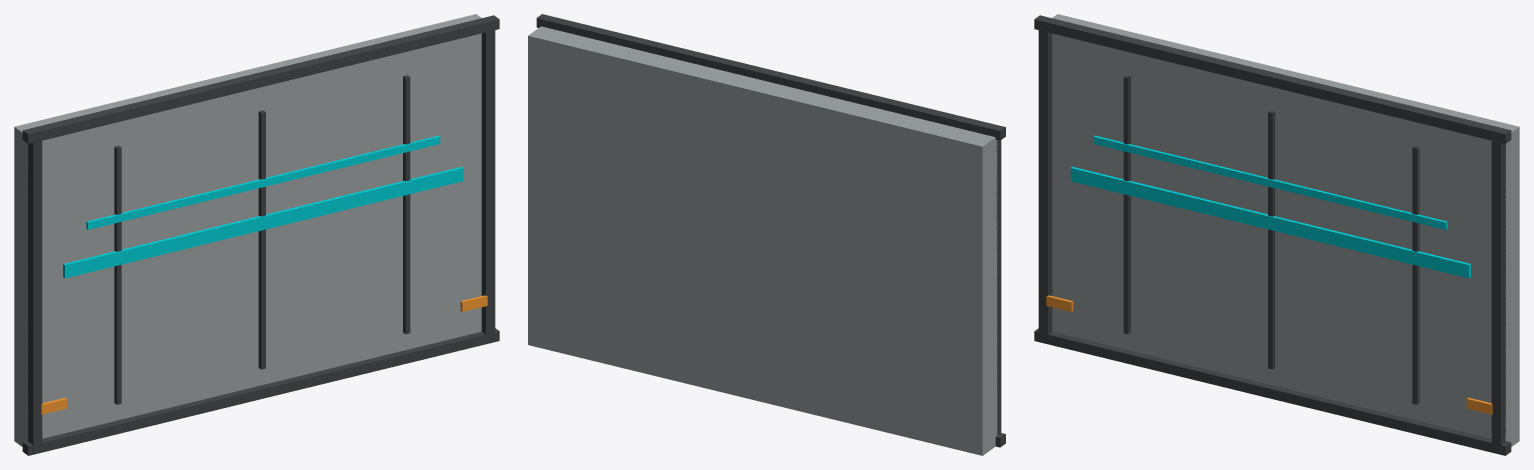
File: map_a2_wallrun_panel_01.glb
3 renders of one model, left to right at view 1: azimuth 30°, elevation 25°; view 2: azimuth 150°, elevation 25°; view 3: azimuth 330°, elevation 25°, orthographic.
Parts seen in each view (by area): view 1: map_a2_wallrun_panel_01_lod0_wall_slab, map_a2_wallrun_panel_01_lod0_top_cap, map_a2_wallrun_panel_01_lod0_bottom_cap, map_a2_wallrun_panel_01_lod0_wallrun_lane, map_a2_wallrun_panel_01_lod0_side_cap_-1.96, map_a2_wallrun_panel_01_lod0_side_cap_+1.96, map_a2_wallrun_panel_01_lod0_wallrun_lane_upper, map_a2_wallrun_panel_01_lod0_vertical_channel_+1.25, map_a2_wallrun_panel_01_lod0_vertical_channel_-1.25, map_a2_wallrun_panel_01_lod0_vertical_channel_+0.00, map_a2_wallrun_panel_01_lod1_blockout; view 2: map_a2_wallrun_panel_01_lod0_wall_slab, map_a2_wallrun_panel_01_lod0_top_cap, map_a2_wallrun_panel_01_lod0_side_cap_-1.96; view 3: map_a2_wallrun_panel_01_lod0_wall_slab, map_a2_wallrun_panel_01_lod0_top_cap, map_a2_wallrun_panel_01_lod0_bottom_cap, map_a2_wallrun_panel_01_lod0_wallrun_lane, map_a2_wallrun_panel_01_lod0_side_cap_+1.96, map_a2_wallrun_panel_01_lod0_side_cap_-1.96, map_a2_wallrun_panel_01_lod1_blockout, map_a2_wallrun_panel_01_lod0_wallrun_lane_upper, map_a2_wallrun_panel_01_lod0_vertical_channel_-1.25, map_a2_wallrun_panel_01_lod0_vertical_channel_+1.25, map_a2_wallrun_panel_01_lod0_vertical_channel_+0.00.
Boxes of the visible parts, box(x1,y1,x2,y2) form: map_a2_wallrun_panel_01_lod0_wall_slab: box(14, 14, 481, 446); map_a2_wallrun_panel_01_lod0_top_cap: box(22, 15, 499, 143); map_a2_wallrun_panel_01_lod0_bottom_cap: box(22, 328, 499, 455); map_a2_wallrun_panel_01_lod0_wallrun_lane: box(63, 166, 463, 278); map_a2_wallrun_panel_01_lod0_side_cap_-1.96: box(28, 139, 42, 453); map_a2_wallrun_panel_01_lod0_side_cap_+1.96: box(481, 29, 495, 343); map_a2_wallrun_panel_01_lod0_wallrun_lane_upper: box(86, 135, 440, 229); map_a2_wallrun_panel_01_lod0_vertical_channel_+1.25: box(403, 75, 410, 334); map_a2_wallrun_panel_01_lod0_vertical_channel_-1.25: box(114, 145, 121, 404); map_a2_wallrun_panel_01_lod0_vertical_channel_+0.00: box(258, 110, 265, 369); map_a2_wallrun_panel_01_lod1_blockout: box(15, 143, 27, 436); map_a2_wallrun_panel_01_lod0_wall_slab: box(528, 26, 997, 455); map_a2_wallrun_panel_01_lod0_top_cap: box(536, 14, 1005, 140); map_a2_wallrun_panel_01_lod0_side_cap_-1.96: box(996, 140, 1001, 435); map_a2_wallrun_panel_01_lod0_wall_slab: box(1052, 14, 1519, 446); map_a2_wallrun_panel_01_lod0_top_cap: box(1034, 15, 1511, 143); map_a2_wallrun_panel_01_lod0_bottom_cap: box(1034, 328, 1511, 455); map_a2_wallrun_panel_01_lod0_wallrun_lane: box(1070, 166, 1470, 278); map_a2_wallrun_panel_01_lod0_side_cap_+1.96: box(1491, 139, 1505, 453); map_a2_wallrun_panel_01_lod0_side_cap_-1.96: box(1038, 29, 1052, 343); map_a2_wallrun_panel_01_lod1_blockout: box(1506, 137, 1518, 440); map_a2_wallrun_panel_01_lod0_wallrun_lane_upper: box(1093, 135, 1447, 229); map_a2_wallrun_panel_01_lod0_vertical_channel_-1.25: box(1123, 75, 1130, 334); map_a2_wallrun_panel_01_lod0_vertical_channel_+1.25: box(1412, 145, 1419, 404); map_a2_wallrun_panel_01_lod0_vertical_channel_+0.00: box(1268, 110, 1275, 369).
Size of the model in its own units: 4.08 by 2.66 by 0.292.
